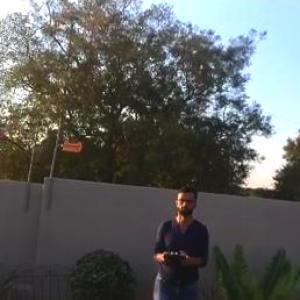follow: (145, 178, 214, 299)
